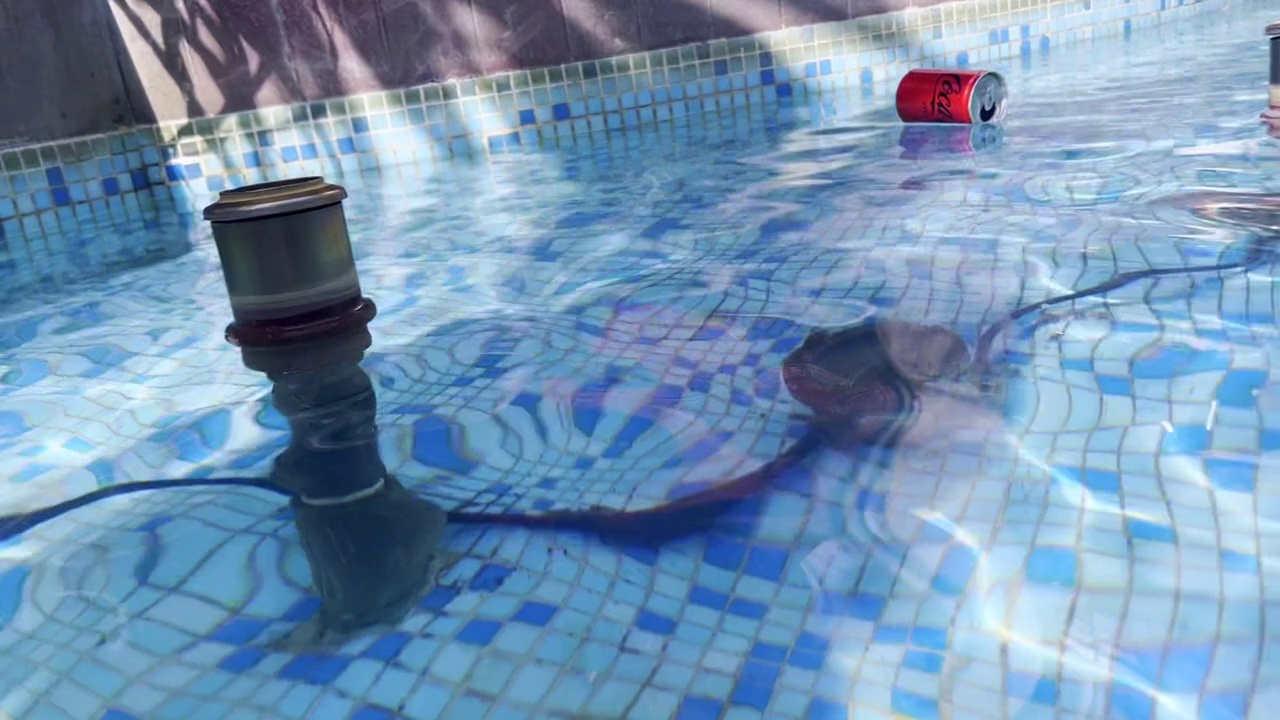debris: (887, 60, 1012, 133)
